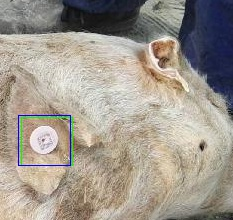text: (21, 117, 72, 165)
